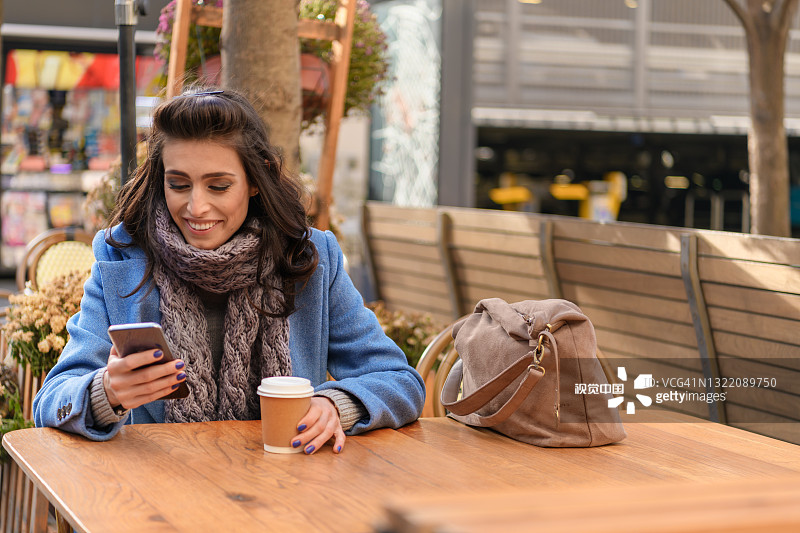no-phone: (259, 375, 358, 469)
reading: (92, 320, 195, 427)
